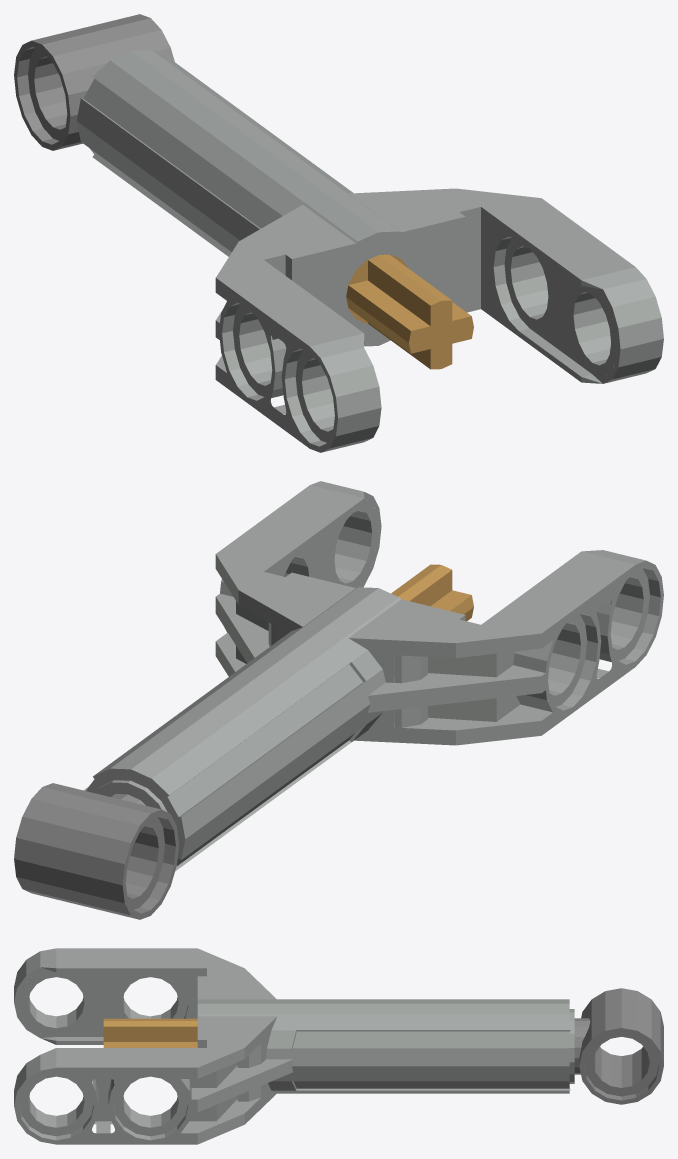
3 renders of one model, top to bottom at view 1: azimuth 30°, elevation 25°; view 2: azimuth 150°, elevation 25°; view 3: azimuth 270°, elevation 25°, orthographic. The views are drawn at different scales.
Visible parts, largest first — view 1: world; view 2: world; view 3: world.
Boxes of the visible parts, x1,y1,x2,y2 form: world: (14,14,663,452); world: (14,481,663,919); world: (14,948,663,1144).
Size of the model in its own units: 0.024 by 0.008 by 0.0552.
